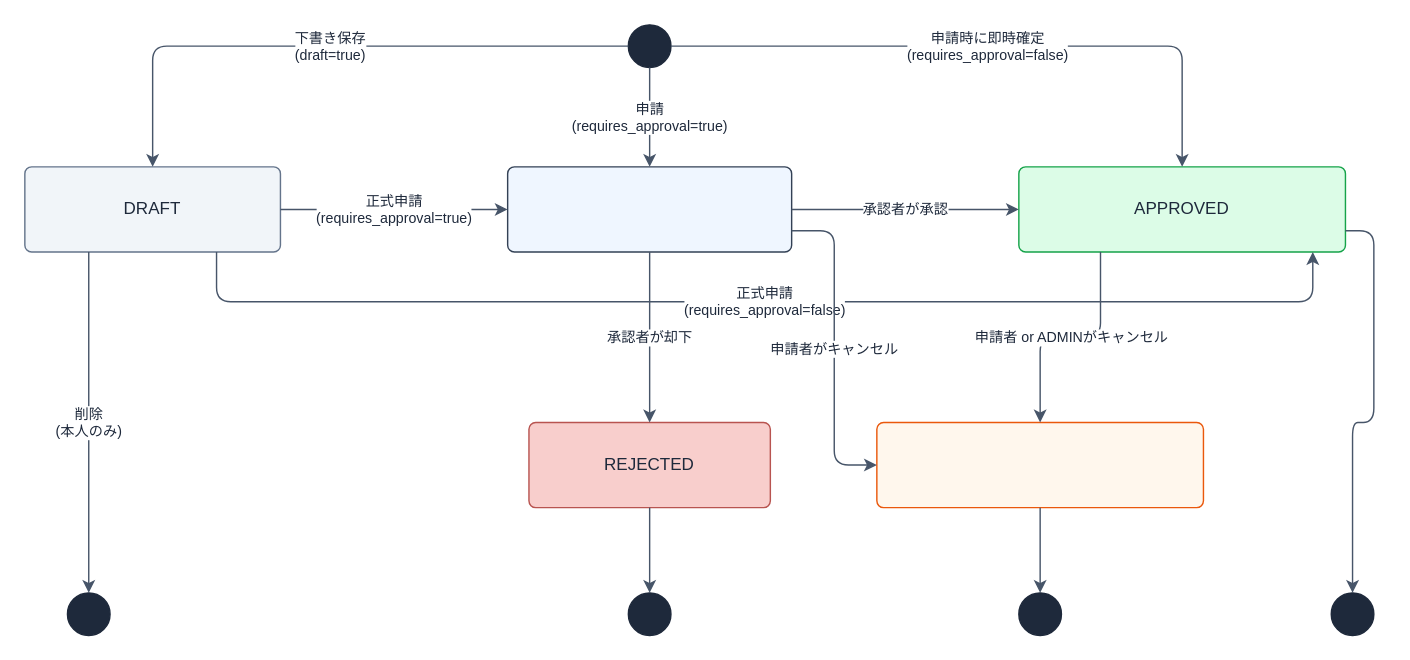
This 1410x660 diagram has some shape labels left out. Each missing label, with the centre of its shape:
CANCELLED: point 1039,464
PENDING: point 649,208
